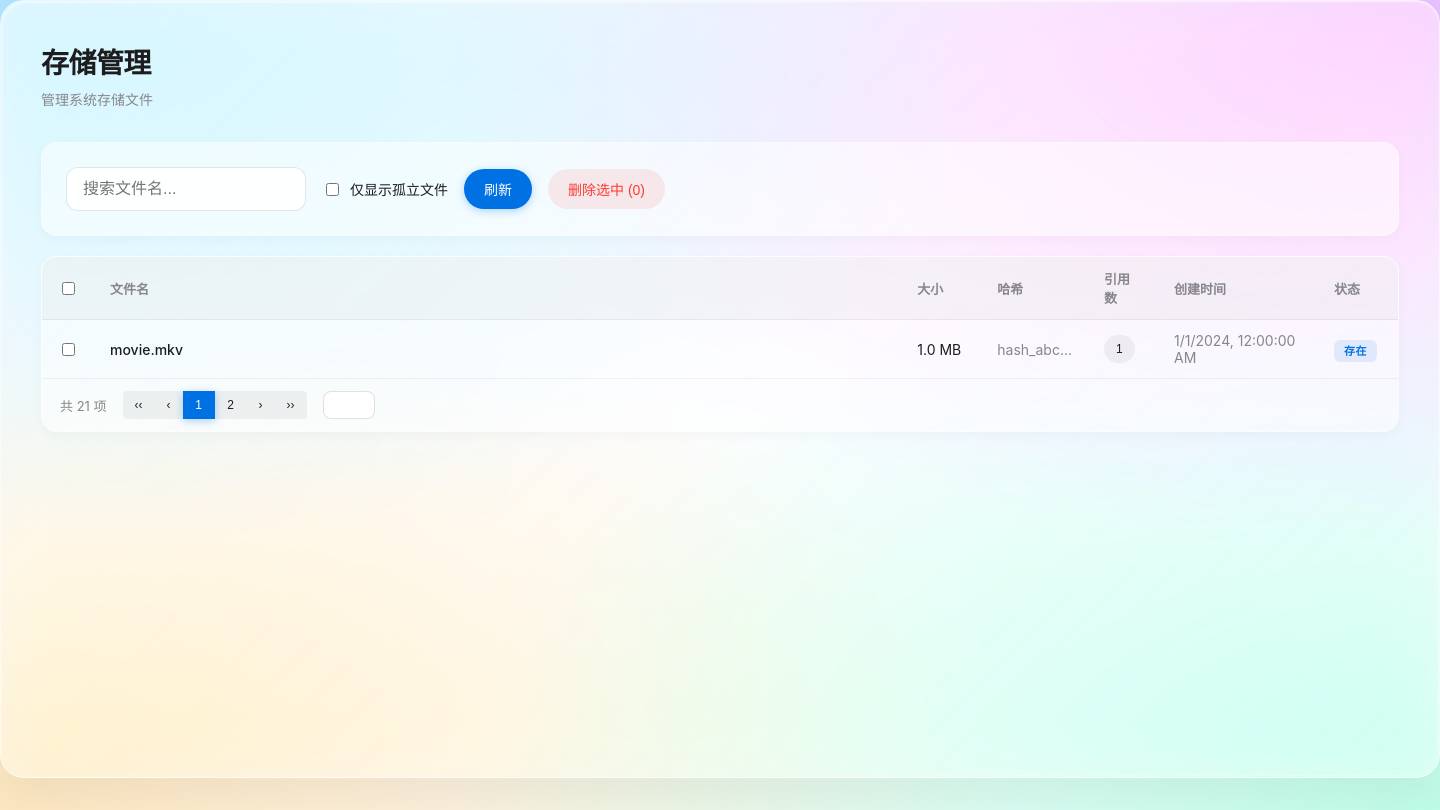
it: StoragePage › returns from an emptied last page after deletion
Expected: the text "movie.mkv" is shown, x1=94 y1=320 x2=901 y2=378
Click the button named "下一页": (261, 405) x1=247 y1=391 x2=275 y2=419
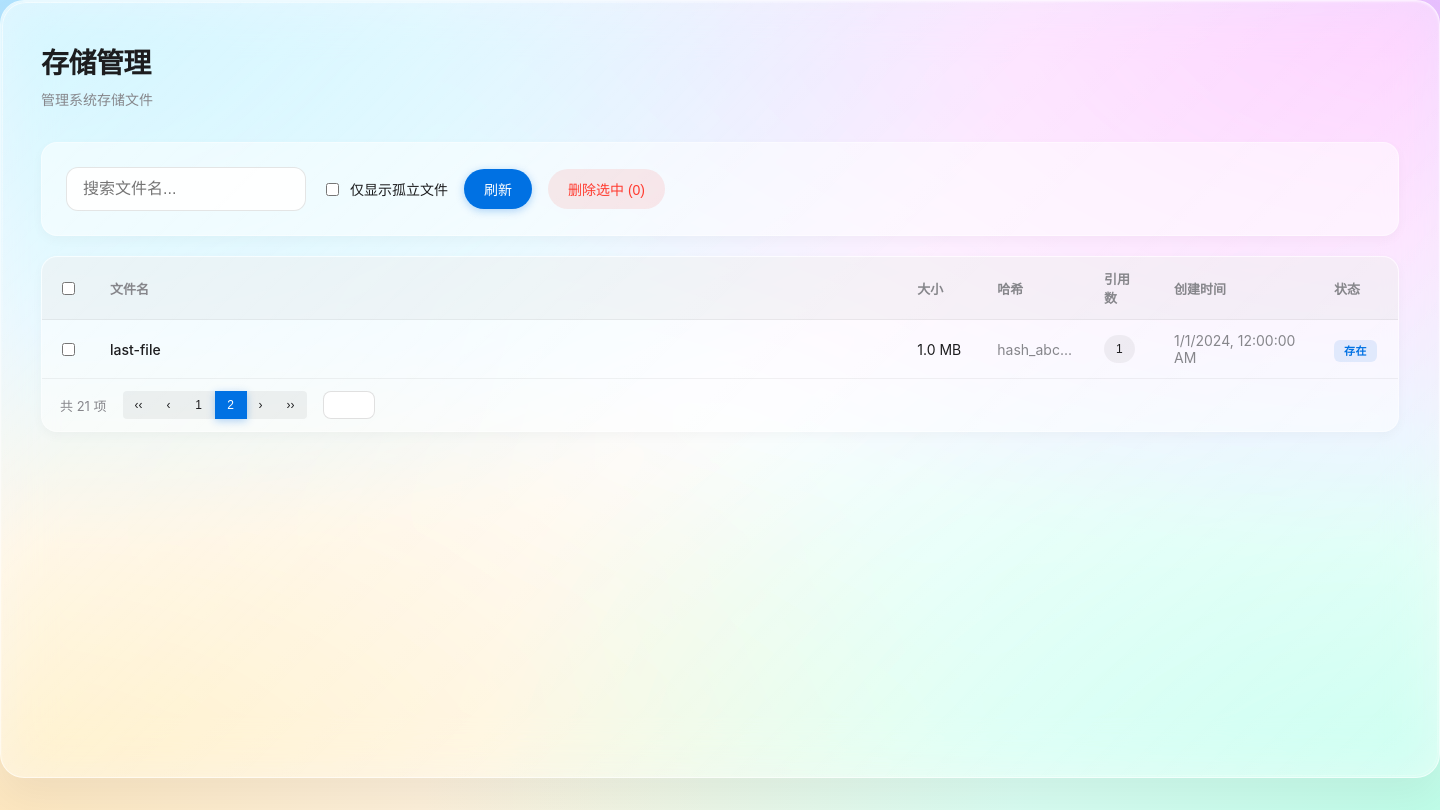
Expected: the text "last-file" is shown, x1=94 y1=320 x2=901 y2=378
Click the checkbox named "选择 last-file": (68, 349) x1=62 y1=342 x2=75 y2=356
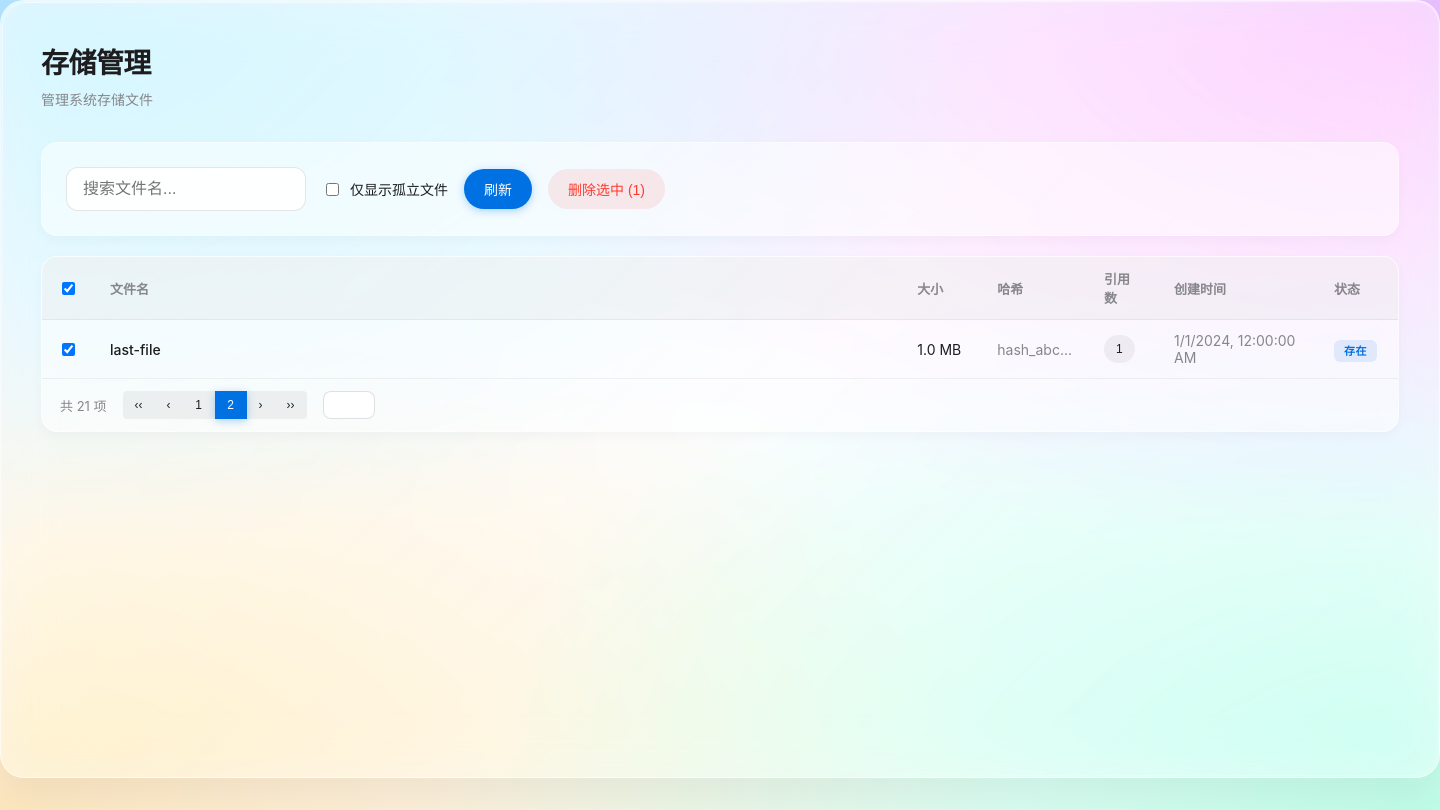
Click the button "删除选中 (1)": (606, 189) x1=548 y1=169 x2=665 y2=209
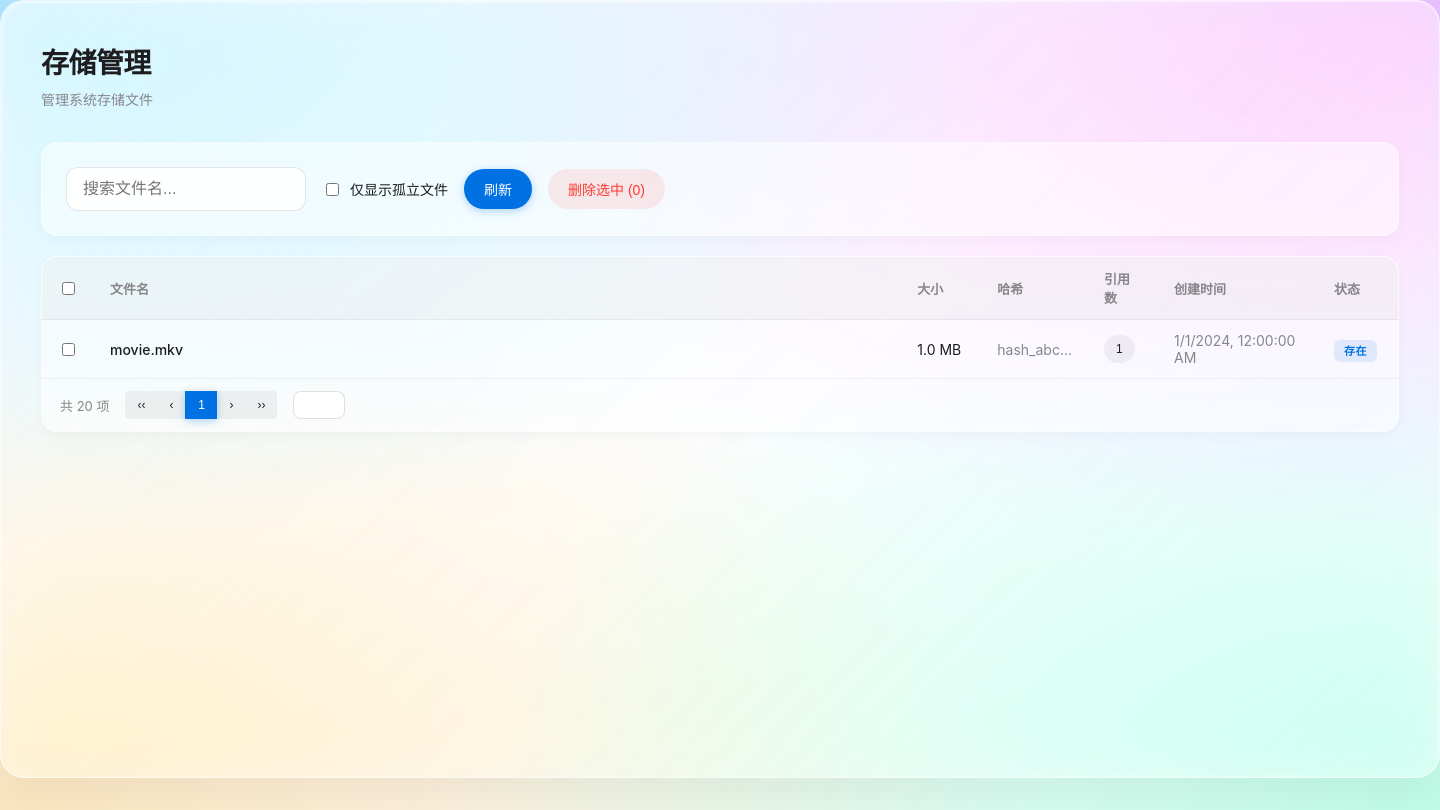
Expected: the text "共 20 项" is shown, x1=60 y1=396 x2=110 y2=414
